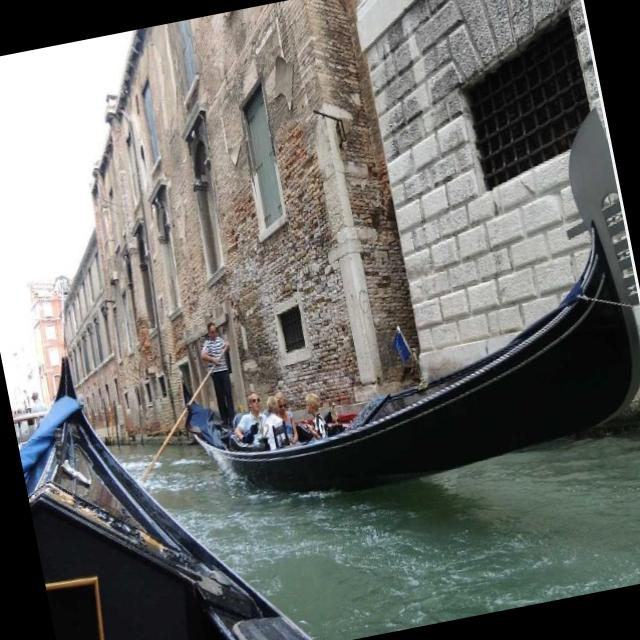boat: (133, 97, 640, 530)
